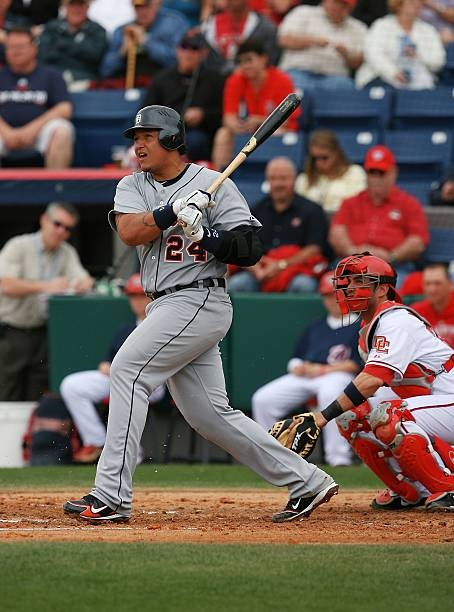bita: (183, 91, 302, 216)
